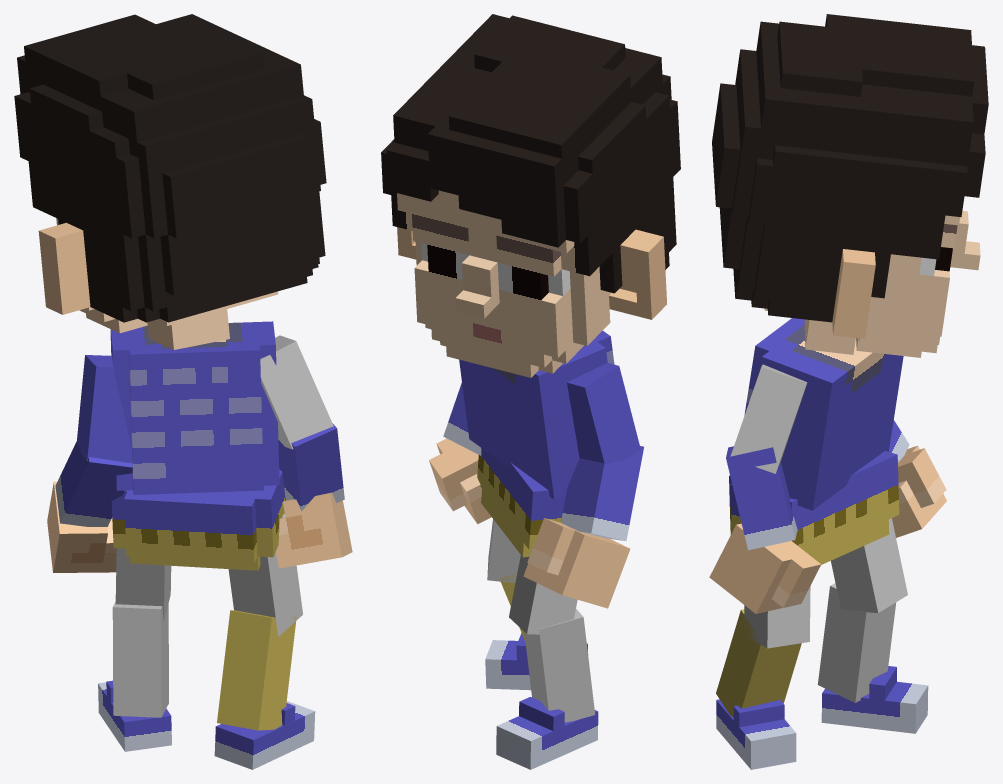
Rendered from kid.dae.
3 renders of one model, left to right at view 1: azimuth 30°, elevation 25°; view 2: azimuth 150°, elevation 25°; view 3: azimuth 270°, elevation 25°, orthographic.
Visible parts, largest first — view 1: Head-local, Chest-local, Hip-local, Right_Leg-local, Left_Leg-local, Right_Arm-local, Left_Arm-local, Right_Hand-local, Left_Forearm-local, Right_Forearm-local, Right_Foot-local, Right_Thigh-local (+3 smaller); view 2: Head-local, Chest-local, Left_Hand-local, Left_Leg-local, Left_Arm-local, Left_Forearm-local, Hip-local, Left_Foot-local, Right_Hand-local, Left_Thigh-local, Right_Foot-local, Right_Thigh-local (+1 smaller); view 3: Head-local, Chest-local, Hip-local, Right_Hand-local, Left_Leg-local, Right_Forearm-local, Right_Leg-local, Left_Foot-local, Left_Thigh-local, Right_Arm-local, Right_Foot-local, Left_Hand-local (+1 smaller).
Boxes of the visible parts, x1,y1,x2,y2 form: Head-local: (14, 14, 326, 349); Chest-local: (110, 321, 279, 494); Hip-local: (111, 469, 285, 570); Right_Leg-local: (217, 610, 296, 730); Left_Leg-local: (112, 602, 168, 717); Right_Arm-local: (260, 335, 333, 449); Left_Arm-local: (76, 355, 132, 462); Right_Hand-local: (276, 492, 352, 568); Left_Forearm-local: (55, 441, 132, 526); Right_Forearm-local: (278, 423, 344, 511); Right_Foot-local: (214, 701, 315, 769); Right_Thigh-local: (228, 513, 302, 636); Head-local: (381, 14, 680, 377); Chest-local: (459, 330, 614, 499); Left_Hand-local: (523, 518, 630, 608); Left_Leg-local: (524, 609, 595, 722); Left_Arm-local: (567, 362, 640, 464); Left_Forearm-local: (561, 446, 643, 540); Hip-local: (477, 448, 565, 557); Left_Foot-local: (496, 697, 598, 769); Right_Hand-local: (429, 438, 491, 524); Left_Thigh-local: (509, 555, 577, 634); Right_Foot-local: (485, 633, 588, 690); Right_Thigh-local: (487, 519, 520, 582); Head-local: (712, 14, 988, 357); Chest-local: (744, 318, 903, 510); Hip-local: (729, 451, 899, 564); Right_Hand-local: (709, 523, 821, 613); Left_Leg-local: (817, 583, 896, 702); Right_Forearm-local: (726, 446, 797, 550); Right_Leg-local: (716, 609, 801, 717); Left_Foot-local: (821, 666, 928, 733); Left_Thigh-local: (831, 518, 907, 612); Right_Arm-local: (730, 364, 807, 473); Right_Foot-local: (716, 699, 796, 769); Left_Hand-local: (892, 445, 946, 537).
Bounding box in the file's own units: 18.34 × 46.78 × 17.27.
